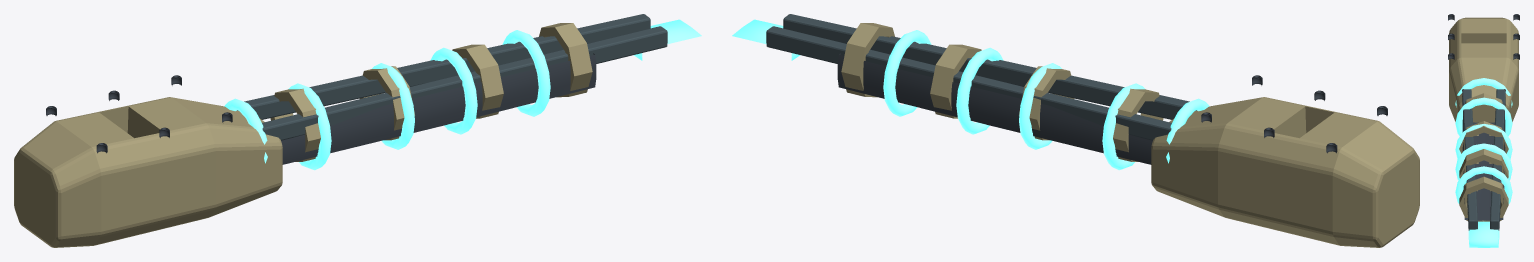
File: weapon_railgun.glb
The picture shows the model from 3 angles, left to right: view 1: azimuth 30°, elevation 25°; view 2: azimuth 150°, elevation 25°; view 3: azimuth 270°, elevation 25°; orthographic projection. The views are drawn at different scales.
Visible parts, largest first — view 1: Rail_Breech, Remaster_Material_Mechanical_BrushedNickel, weapon_railgun_Material_Mechanical_Merged, weapon_railgun_Material_Accent_Merged, Remaster_Material_Hull_VitreousCeramic, Rail_Accent_Slit; view 2: Rail_Breech, Remaster_Material_Mechanical_BrushedNickel, weapon_railgun_Material_Mechanical_Merged, weapon_railgun_Material_Accent_Merged, Remaster_Material_Hull_VitreousCeramic, Rail_Accent_Slit; view 3: Rail_Breech, weapon_railgun_Material_Accent_Merged, Remaster_Material_Hull_VitreousCeramic, Remaster_Material_Mechanical_BrushedNickel, weapon_railgun_Material_Mechanical_Merged, Rail_Accent_Slit.
Part boxes in pixels (box(x1,y1,x2,y2)): Rail_Breech: box(14, 97, 282, 247); Remaster_Material_Mechanical_BrushedNickel: box(237, 14, 667, 140); weapon_railgun_Material_Mechanical_Merged: box(46, 53, 596, 164); weapon_railgun_Material_Accent_Merged: box(224, 30, 550, 170); Remaster_Material_Hull_VitreousCeramic: box(270, 23, 592, 161); Rail_Accent_Slit: box(633, 19, 701, 60); Rail_Breech: box(1151, 97, 1419, 247); Remaster_Material_Mechanical_BrushedNickel: box(766, 14, 1196, 140); weapon_railgun_Material_Mechanical_Merged: box(837, 53, 1387, 164); weapon_railgun_Material_Accent_Merged: box(883, 30, 1209, 170); Remaster_Material_Hull_VitreousCeramic: box(841, 23, 1163, 161); Rail_Accent_Slit: box(732, 19, 800, 60); Rail_Breech: box(1449, 17, 1518, 122); weapon_railgun_Material_Accent_Merged: box(1455, 78, 1512, 203); Remaster_Material_Hull_VitreousCeramic: box(1459, 93, 1508, 221); Remaster_Material_Mechanical_BrushedNickel: box(1462, 89, 1505, 230); weapon_railgun_Material_Mechanical_Merged: box(1448, 14, 1519, 220); Rail_Accent_Slit: box(1468, 221, 1499, 247).
Bounding box in the file's own units: 6.3 × 0.97 × 0.9256.
Materials: 5 (3 with a texture image).
